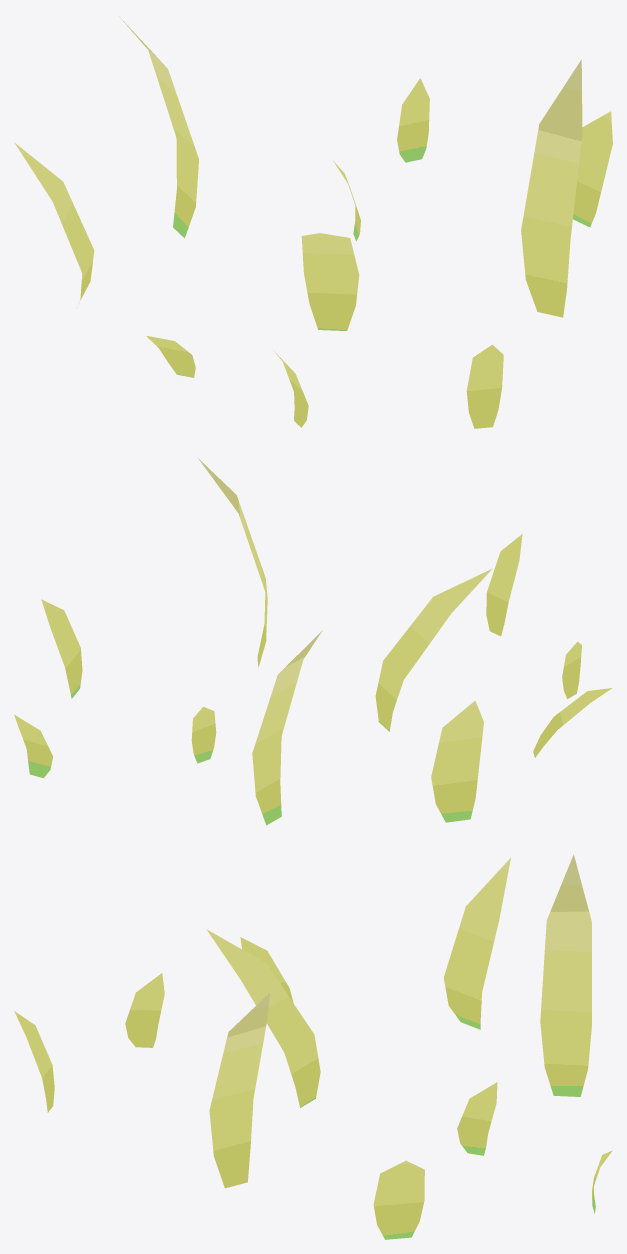
The model's file is SM_grassCluster02.fbx.
3 views of the same model, one above another, from view 1: azimuth 30°, elevation 25°; view 2: azimuth 150°, elevation 25°; view 3: azimuth 270°, elevation 25° (orthographic). The views are drawn at different scales.
Parts seen in each view (by area): view 1: SM_grassCluster02; view 2: SM_grassCluster02; view 3: SM_grassCluster02.
Part boxes in pixels (box(x1,y1,x2,y2)): SM_grassCluster02: box(14, 16, 612, 428); SM_grassCluster02: box(14, 458, 612, 825); SM_grassCluster02: box(14, 854, 612, 1239).
Bounding box in the file's own units: 96.77 × 38.75 × 97.5.
1 material, 1 textured.
